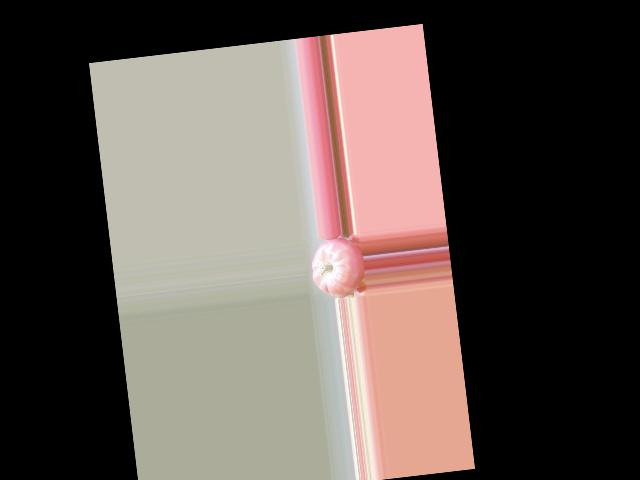tomato: (308, 235, 368, 301)
